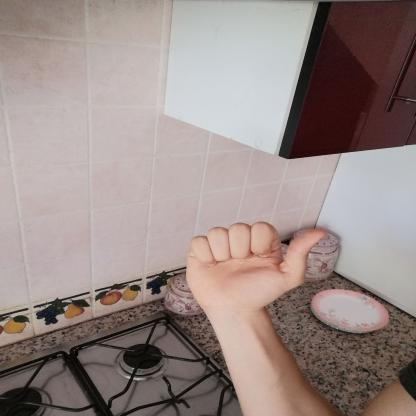DAD: (173, 213, 337, 323)
